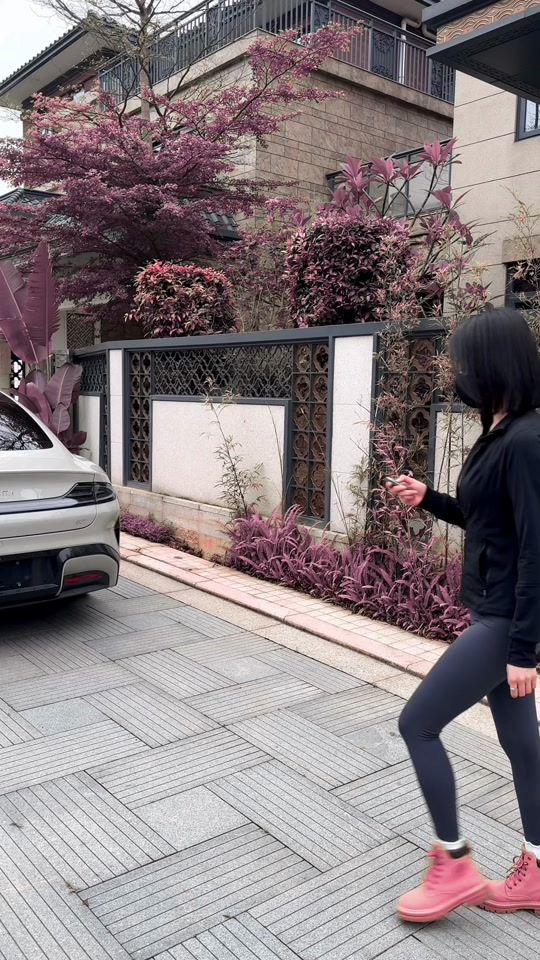su7: (0, 375, 139, 624)
